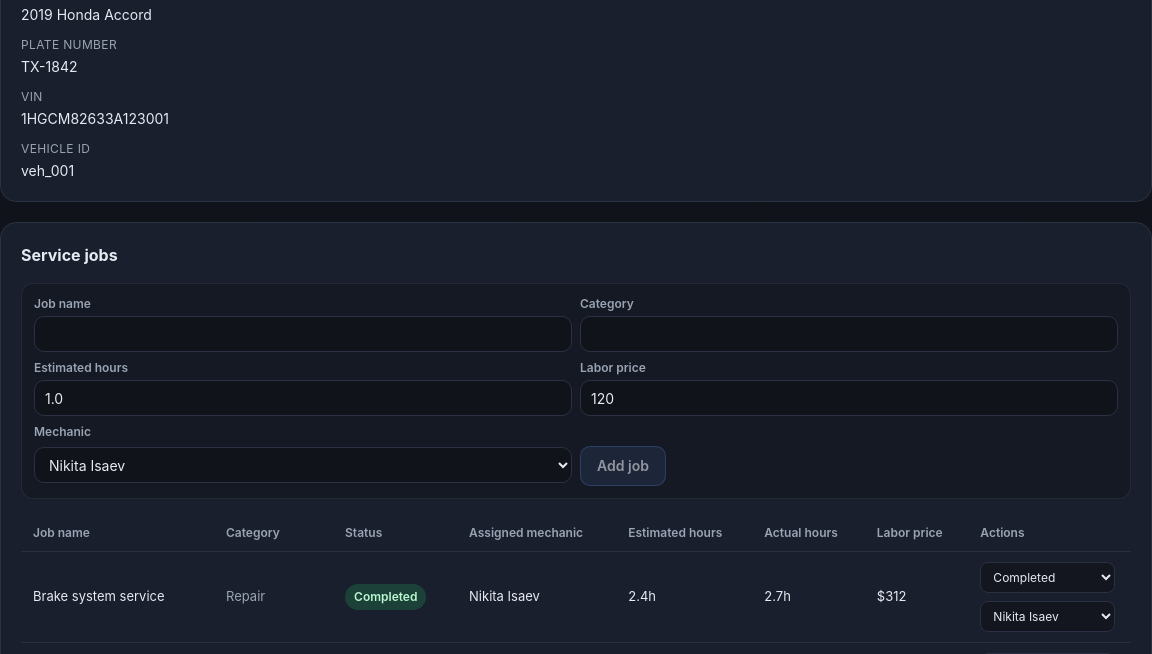
Test: OrderDetailsOverview › keeps add buttons disabled until required fields are provided
(page scrolled)
Check: the button "Add job" is disabled, box [580,446,666,486]
Type "Cooling system flush" into the field labelled "Job name" at (303, 334), box [34,316,572,352]
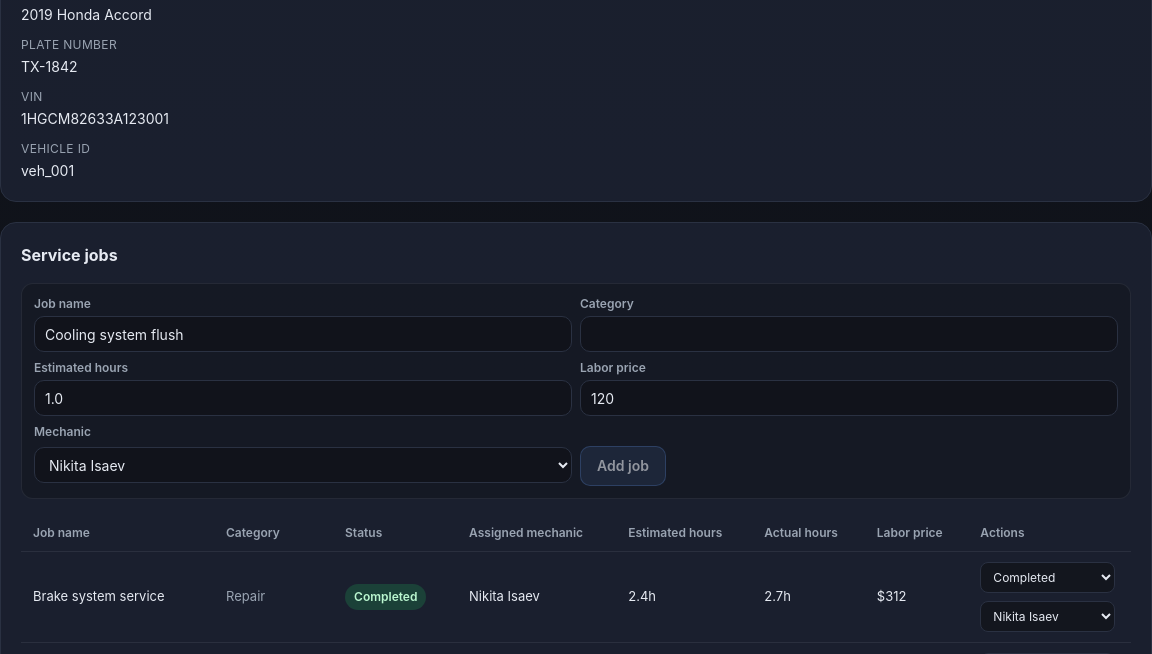
Type "Maintenance" into the field labelled "Category" at (849, 334), box [580,316,1118,352]
(page scrolled)
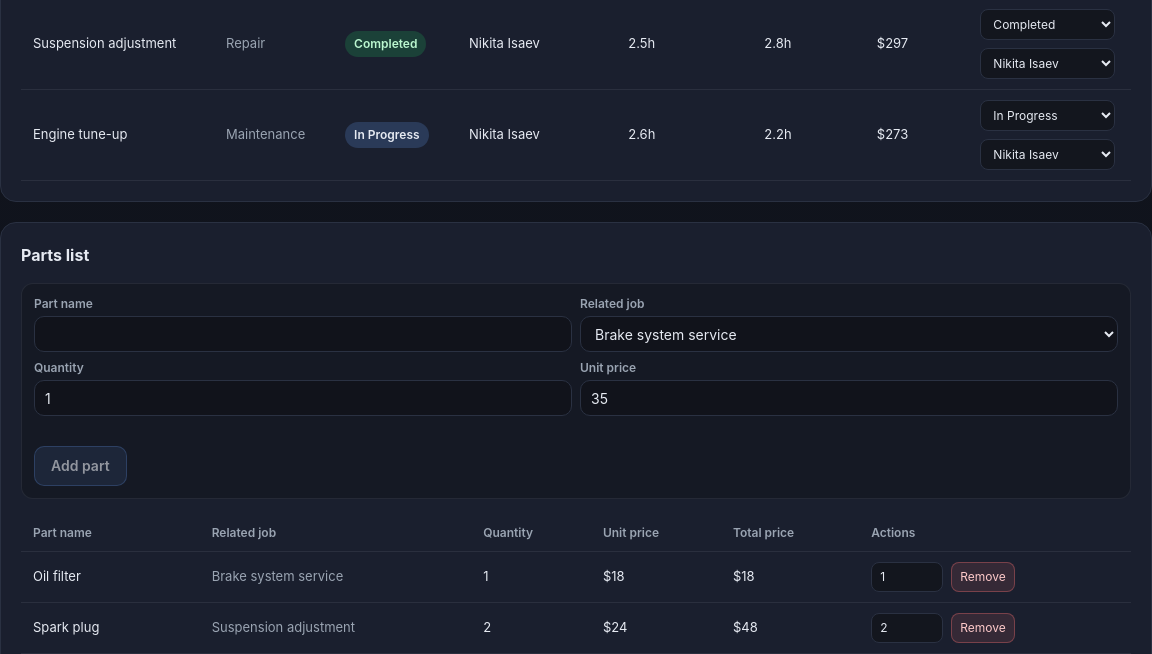
Type "Coolant" into the field labelled "Part name" at (303, 334), box [34,316,572,352]
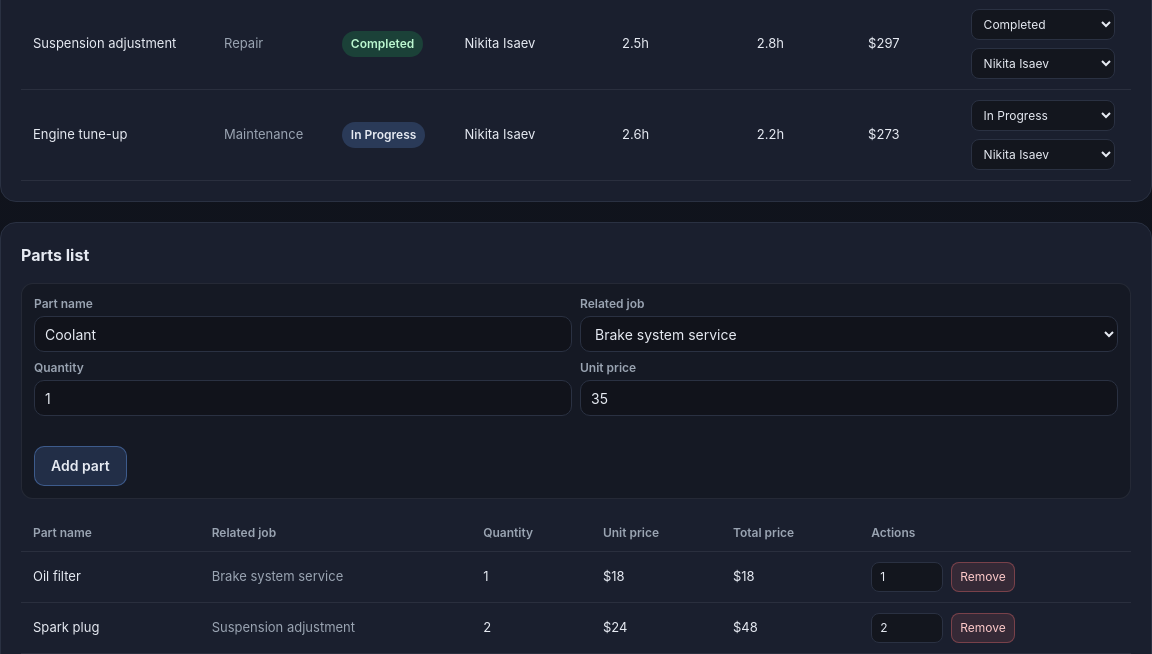
Check: the button "Add part" is enabled, box [34,446,127,486]
